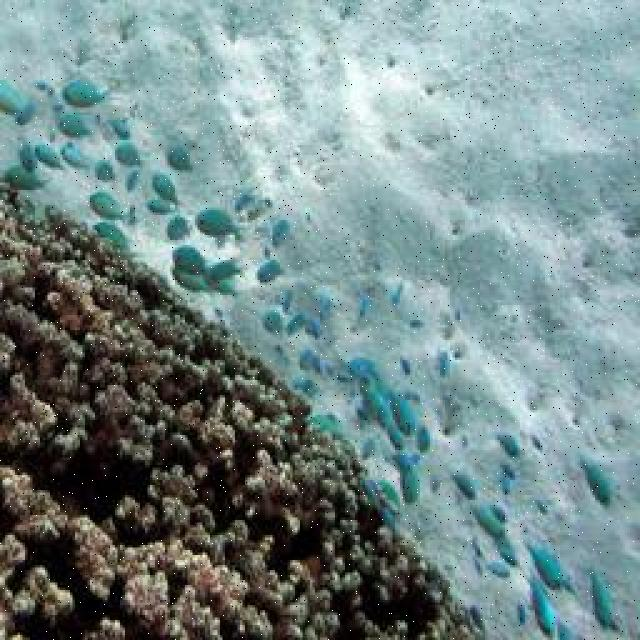fish: (525, 571, 560, 638), (1, 77, 37, 127), (530, 546, 565, 594), (194, 210, 244, 243), (582, 457, 613, 510), (88, 192, 135, 224), (467, 503, 508, 539), (1, 163, 55, 189), (393, 454, 419, 506), (589, 569, 610, 632), (64, 84, 113, 108), (170, 266, 217, 291), (171, 243, 208, 273), (391, 396, 416, 437), (204, 258, 242, 283), (90, 225, 131, 247), (57, 112, 93, 137), (167, 144, 195, 172), (450, 474, 477, 501), (154, 174, 176, 206), (62, 145, 93, 166), (117, 144, 144, 168), (37, 146, 64, 170), (257, 258, 285, 281), (168, 216, 195, 238), (108, 119, 132, 142), (260, 310, 282, 333), (271, 220, 289, 248), (499, 436, 522, 456), (21, 145, 38, 171), (149, 198, 173, 216), (93, 164, 115, 181)
reefs: (0, 182, 480, 638)
